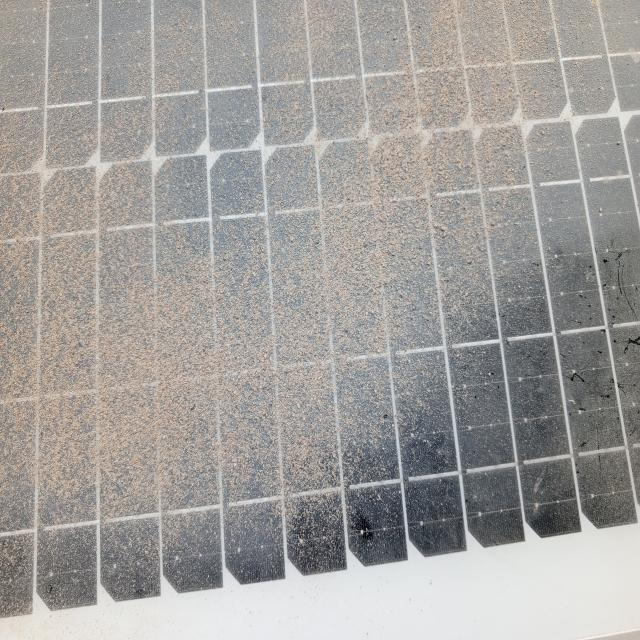Surface Contaminant: (8, 5, 639, 523)
